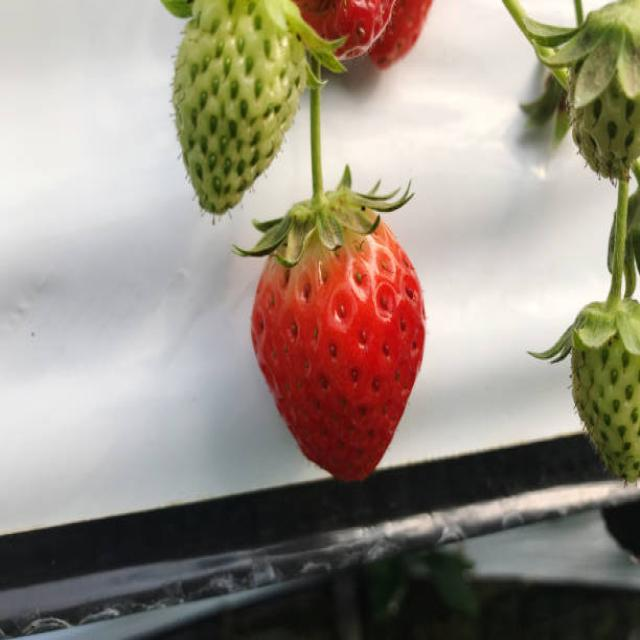Healthy Fruit: (253, 212, 425, 488), (171, 0, 306, 213)
